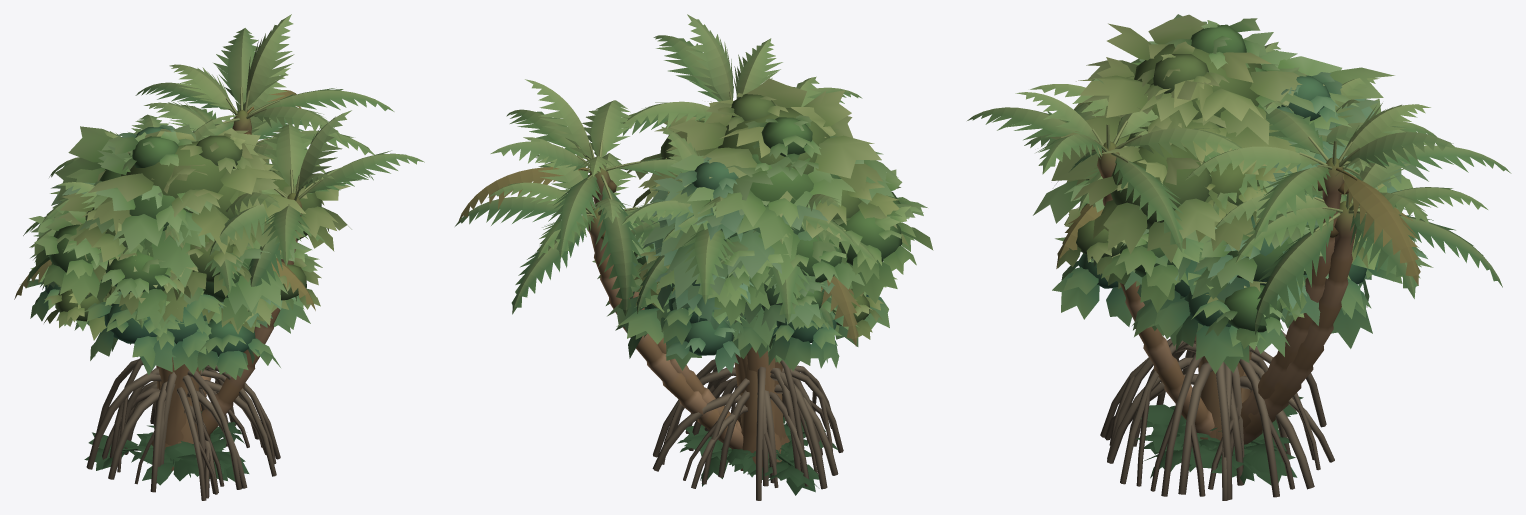
Rendered from trees.glb.
3 renders of one model, left to right at view 1: azimuth 30°, elevation 25°; view 2: azimuth 150°, elevation 25°; view 3: azimuth 270°, elevation 25°, orthographic. The views are drawn at different scales.
Parts seen in each view (by area): view 1: tree_0__foliage, treefar_0__foliage, palmlean_0__foliage, palmlean_1__foliage, mangrove_1__foliage, tree_2__foliage, treefar_1__foliage, mangrove_2__matte, mangrove_1__matte, tree_4__foliage, mangrove_0__matte, palmlean_2__foliage (+12 smaller); view 2: palmlean_0__foliage, treefar_0__foliage, tree_0__foliage, treefar_1__foliage, palmlean_2__foliage, palmlean_1__foliage, tree_1__foliage, treefar_2__foliage, mangrove_2__foliage, palm_2__foliage, mangrove_2__matte, mangrove_0__matte (+15 smaller); view 3: treefar_0__foliage, palmlean_0__foliage, palmlean_2__foliage, palmlean_1__foliage, tree_3__foliage, tree_2__foliage, mangrove_1__foliage, mangrove_2__matte, mangrove_1__matte, palmlean_2__matte, tree_1__foliage, mangrove_0__matte (+13 smaller).
Part boxes in pixels (<box>): tree_0__foliage: <box>27,131,260,329</box>; treefar_0__foliage: <box>60,128,351,294</box>; palmlean_0__foliage: <box>135,14,394,142</box>; palmlean_1__foliage: <box>209,110,424,311</box>; mangrove_1__foliage: <box>74,255,319,379</box>; tree_2__foliage: <box>151,133,321,309</box>; treefar_1__foliage: <box>55,124,311,329</box>; mangrove_2__matte: <box>86,365,276,500</box>; mangrove_1__matte: <box>108,358,280,489</box>; tree_4__foliage: <box>44,211,288,340</box>; mangrove_0__matte: <box>96,359,266,498</box>; palmlean_2__foliage: <box>144,68,374,173</box>; palmlean_0__foliage: <box>459,79,689,316</box>; treefar_0__foliage: <box>627,78,908,267</box>; tree_0__foliage: <box>720,115,933,329</box>; treefar_1__foliage: <box>638,154,855,325</box>; palmlean_2__foliage: <box>455,137,659,314</box>; palmlean_1__foliage: <box>590,14,862,142</box>; tree_1__foliage: <box>630,156,759,373</box>; treefar_2__foliage: <box>634,177,837,331</box>; mangrove_2__foliage: <box>607,284,859,370</box>; palm_2__foliage: <box>610,126,855,313</box>; mangrove_2__matte: <box>683,365,843,489</box>; mangrove_0__matte: <box>652,366,825,500</box>; treefar_0__foliage: <box>1049,14,1324,262</box>; palmlean_0__foliage: <box>1185,99,1511,285</box>; palmlean_2__foliage: <box>1216,142,1502,334</box>; palmlean_1__foliage: <box>967,78,1242,252</box>; tree_3__foliage: <box>1092,64,1350,348</box>; tree_2__foliage: <box>1057,41,1284,281</box>; mangrove_1__foliage: <box>1052,237,1304,373</box>; mangrove_2__matte: <box>1100,340,1320,489</box>; mangrove_1__matte: <box>1107,338,1294,499</box>; palmlean_2__matte: <box>1243,201,1356,444</box>; tree_1__foliage: <box>1091,72,1427,325</box>; mangrove_0__matte: <box>1104,330,1334,500</box>.
Size of the model in its own units: 8.54 by 8.27 by 8.76.
